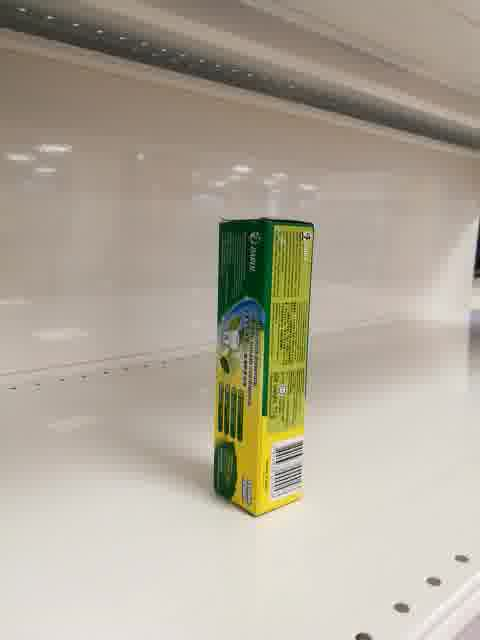toothpaste: (212, 216, 316, 520)
